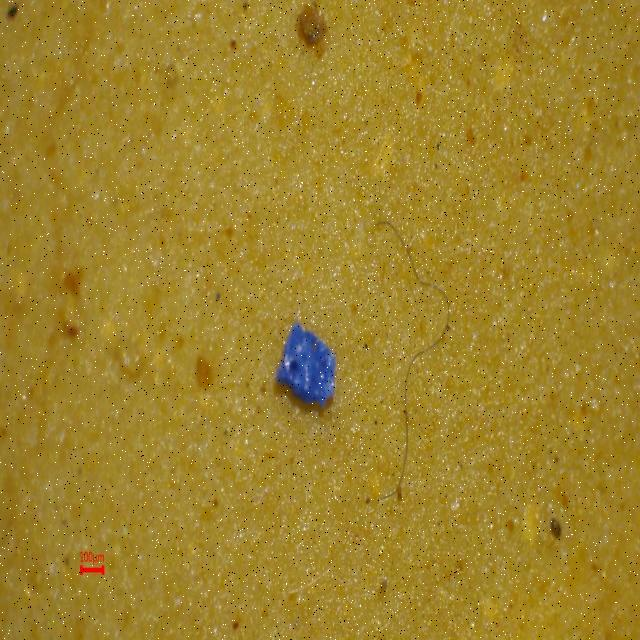fibers: (372, 218, 452, 506)
